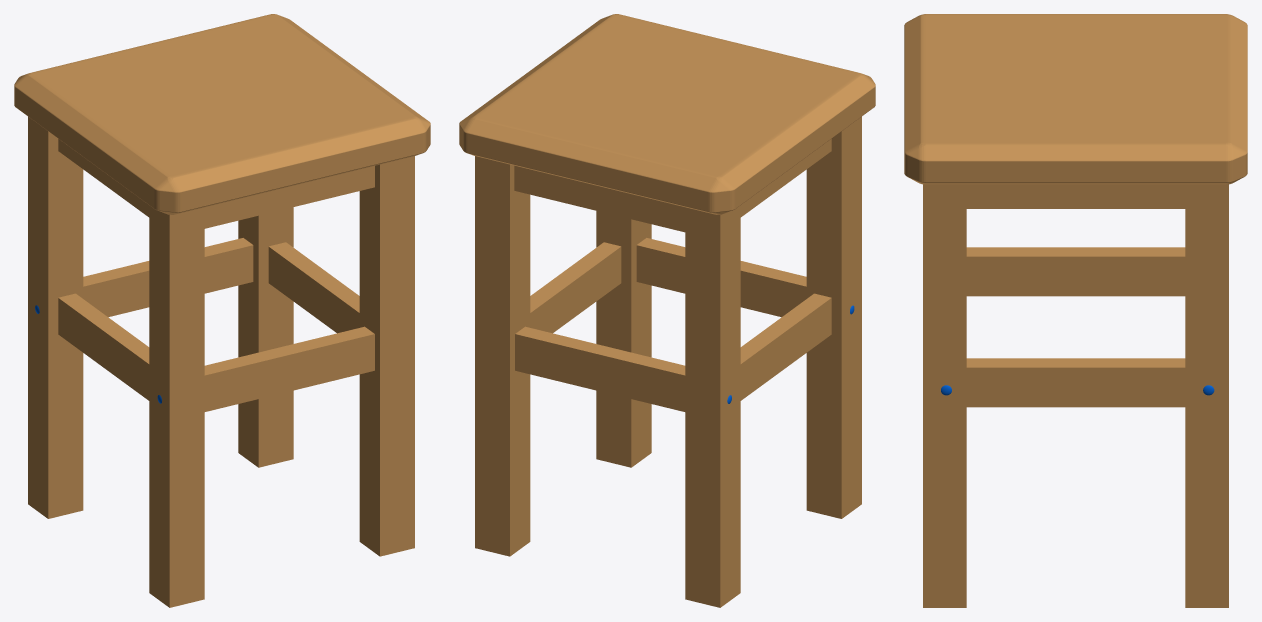
Rendered from Taburetka1.glb.
The picture shows the model from 3 angles, left to right: view 1: azimuth 30°, elevation 25°; view 2: azimuth 150°, elevation 25°; view 3: azimuth 270°, elevation 25°; orthographic projection. The views are drawn at different scales.
Visible parts, largest first — view 1: Сфера.002; view 2: Сфера.002; view 3: Сфера.002.
Boxes of the visible parts, x1,y1,x2,y2 form: Сфера.002: (14, 14, 430, 607); Сфера.002: (459, 14, 875, 607); Сфера.002: (904, 14, 1247, 607).
Size of the model in its own units: 3.14 by 4.69 by 3.14.
